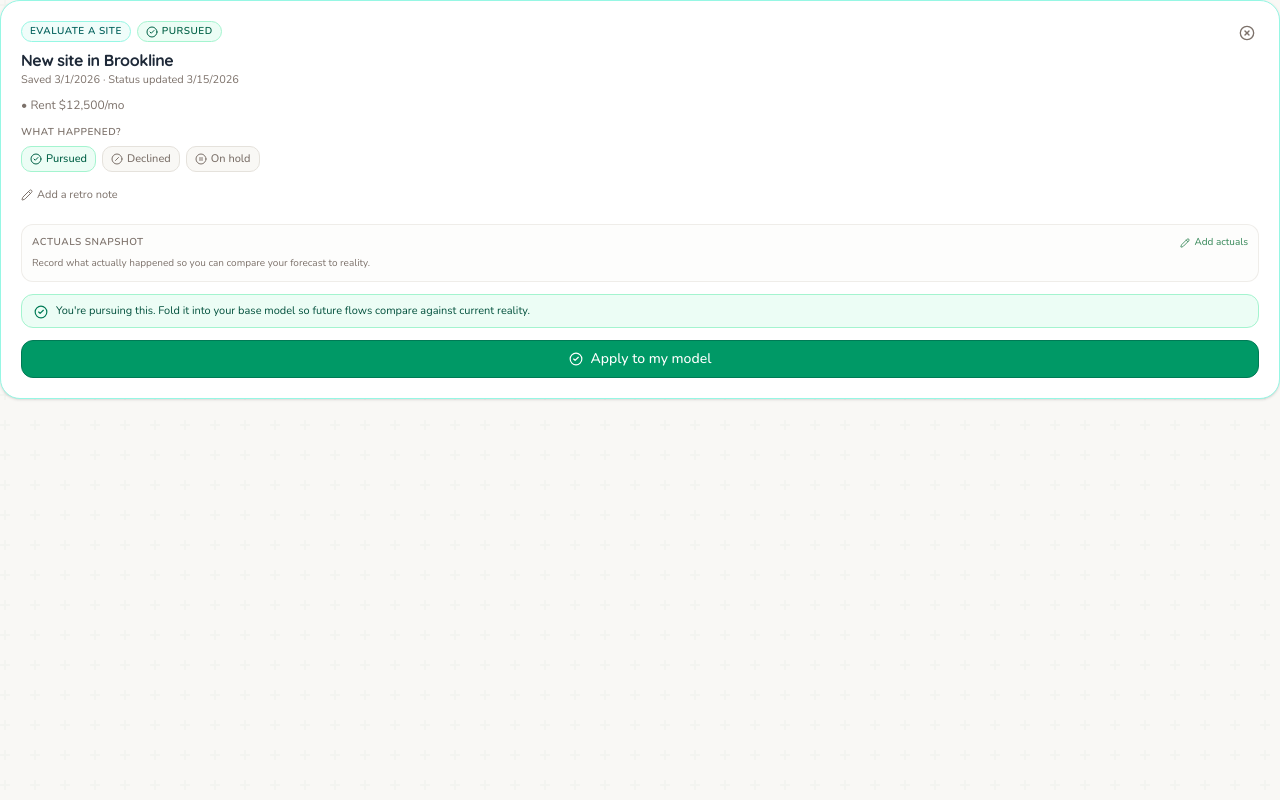
Scenario: CustomScenarioCard — export callout & replace-export deep-link › renders the callout without a date node when uploadedAt is missing
The width and height of the screenshot is (1280, 800).
Click the button with test id "custom-scenario-actuals-edit-0": (1214, 242) [1180,235,1248,250]
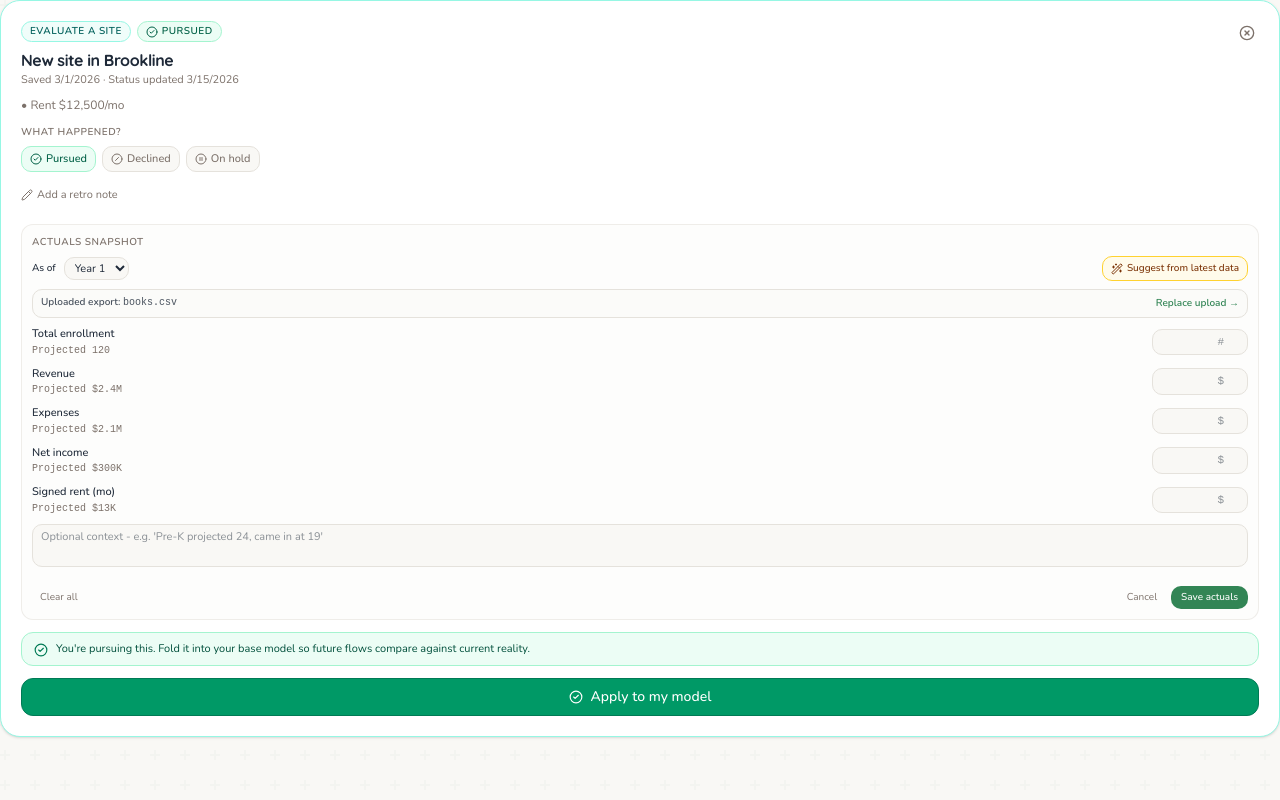
Click the button with test id "custom-scenario-actuals-suggest-0": (1175, 268) [1102,256,1248,281]
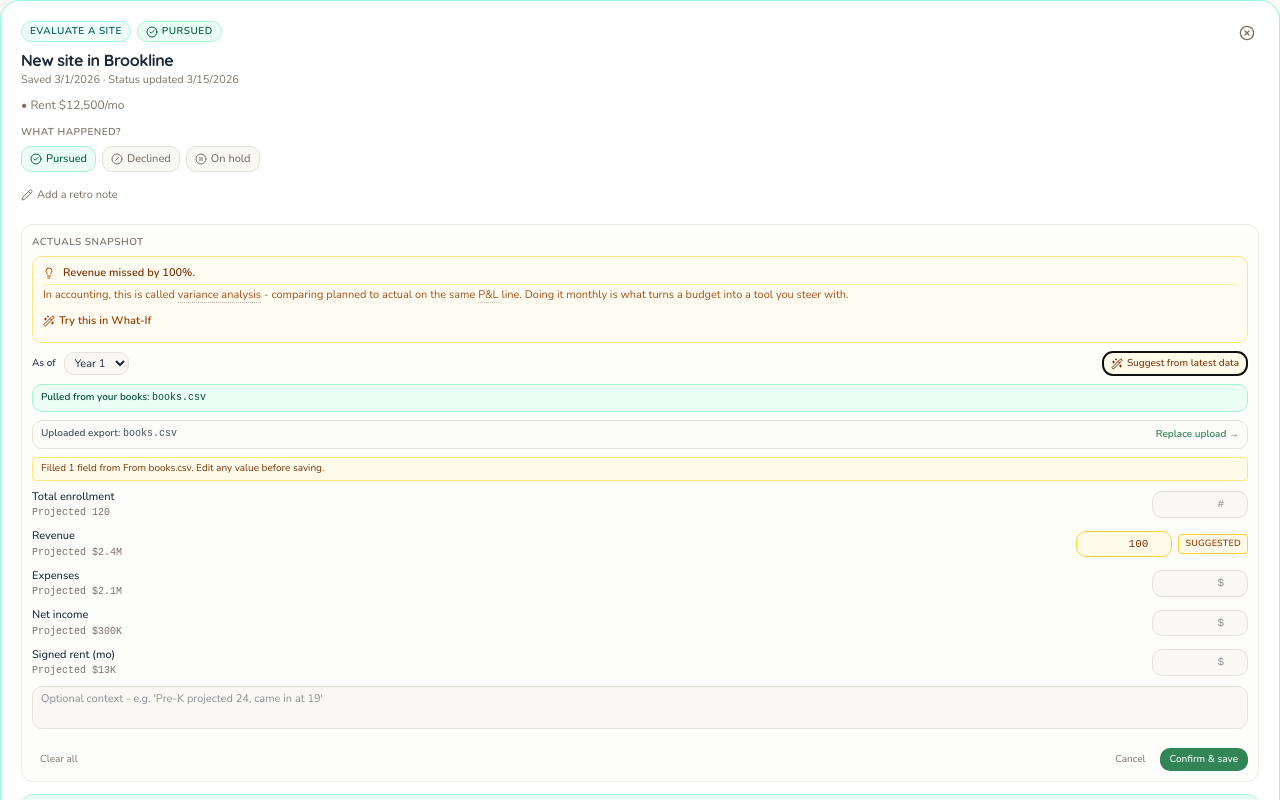
Expected: the element with test id "custom-scenario-actuals-export-source-0" shows "books.csv", [152,392,206,403]
